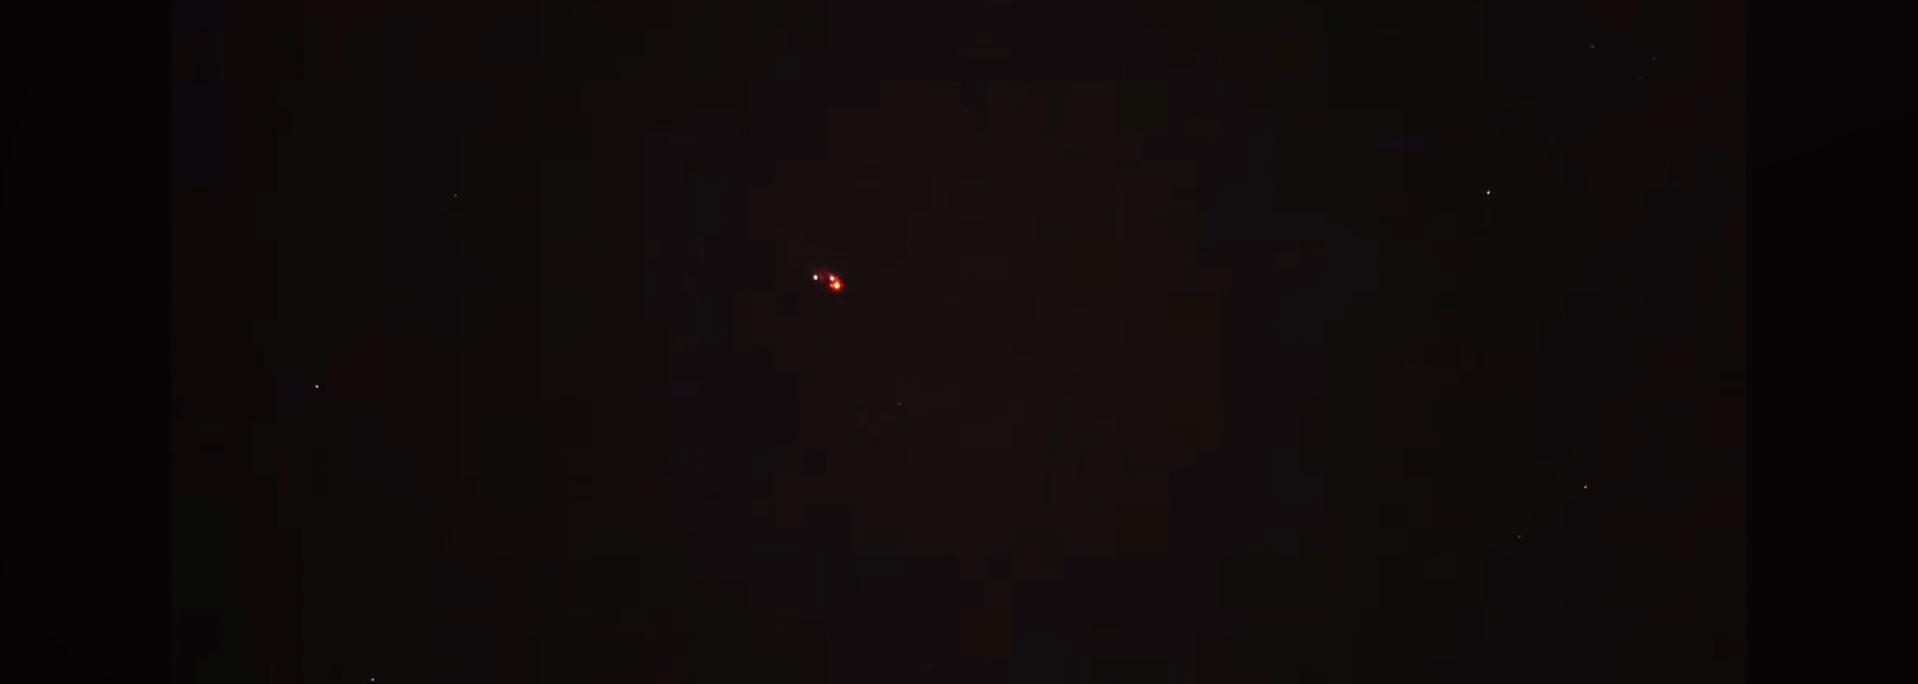Plane: (783, 255, 881, 306)
